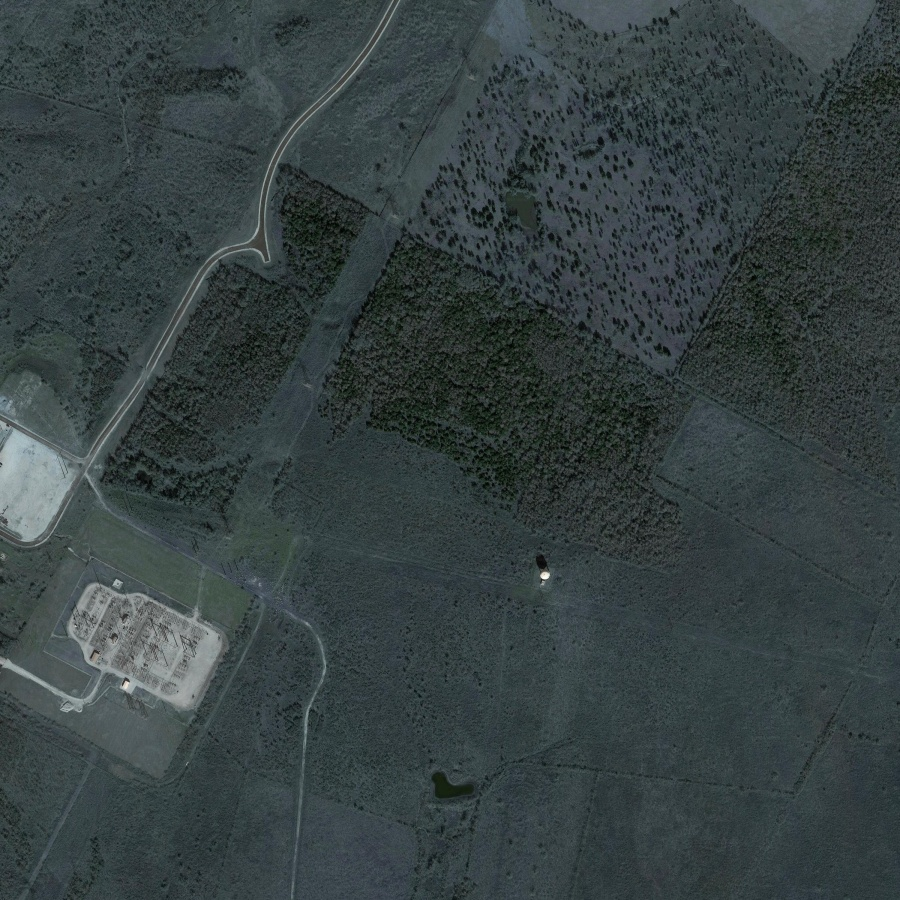PowerPlant: (65, 567, 212, 704)
